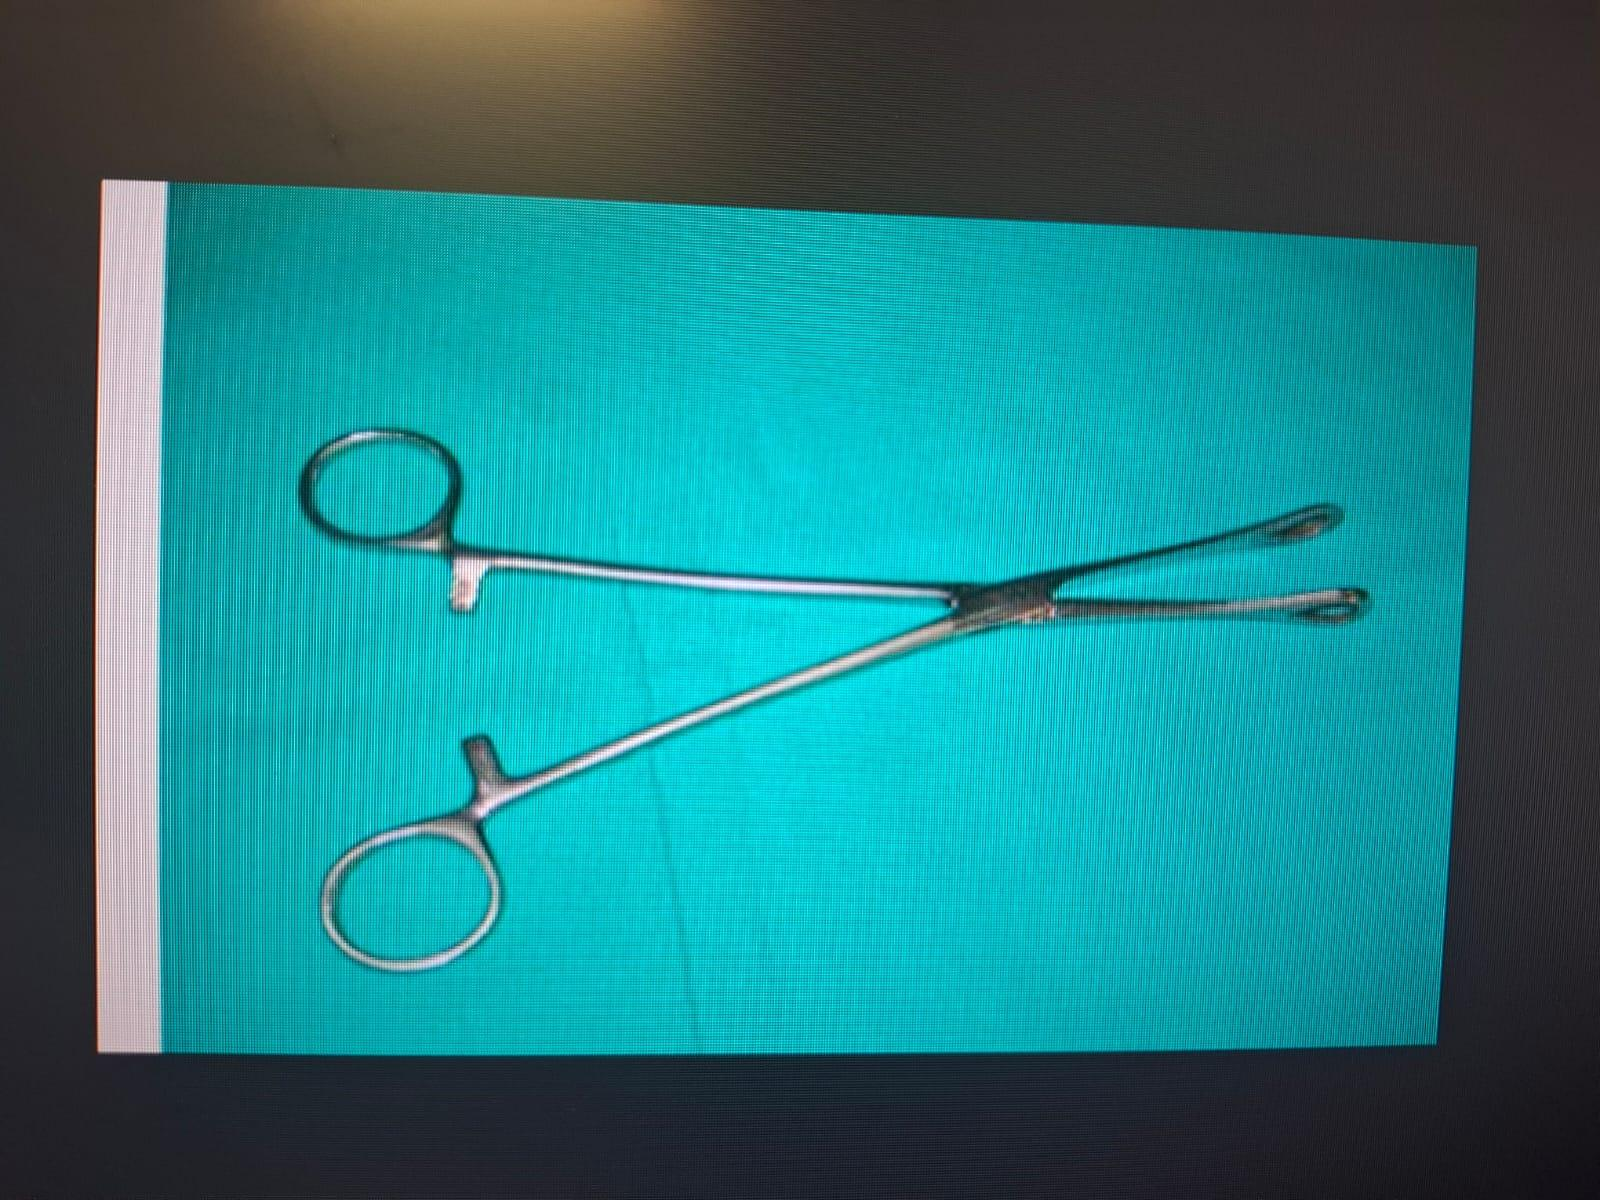Sponge Holding Forceps: (278, 416, 1370, 974)
